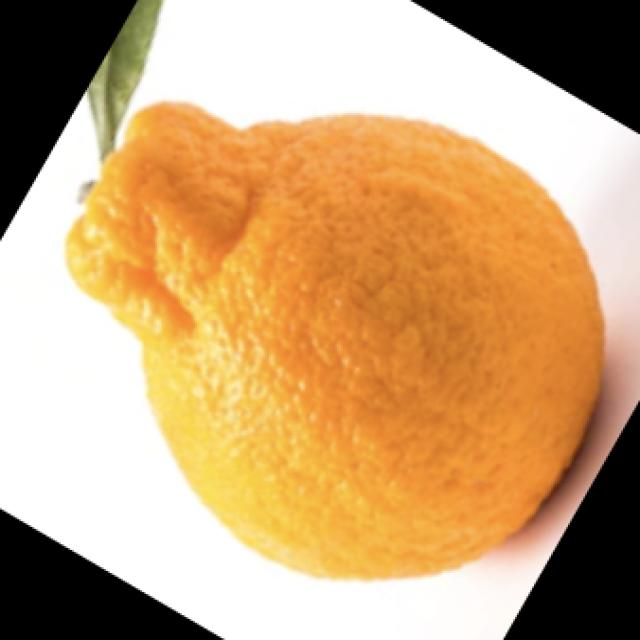fresh: (49, 18, 626, 590)
